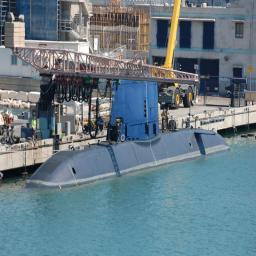submarine: (20, 61, 230, 193)
